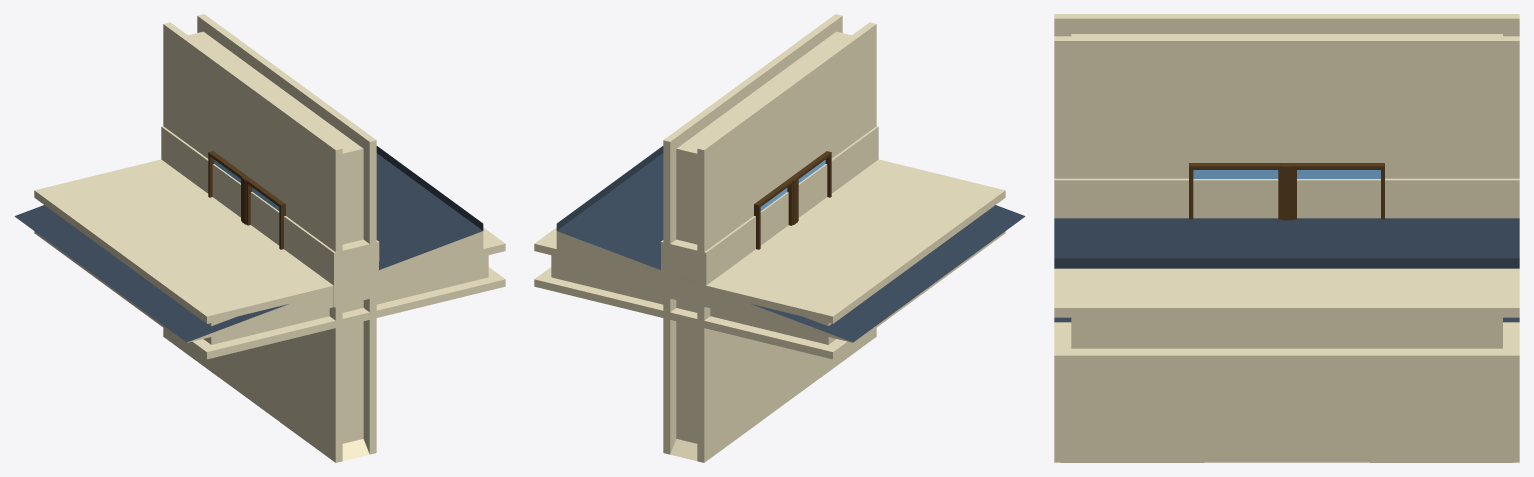
File: ModularHousePieces.fbx
The picture shows the model from 3 angles, left to right: view 1: azimuth 30°, elevation 25°; view 2: azimuth 150°, elevation 25°; view 3: azimuth 270°, elevation 25°; orthographic projection. The views are drawn at different scales.
Visible parts, largest first — view 1: Wall, Ceiling, Roof, WallWindow, RoofMiddle, WallDoor, WindowColor; view 2: Wall, Ceiling, Roof, WallWindow, RoofMiddle, Floor, WallDoor, WindowColor; view 3: Wall, WallWindow, Ceiling, Roof, WallDoor, Floor, RoofMiddle, WindowColor.
Part boxes in pixels (bbox=[...]): Wall: bbox=[163, 14, 376, 462]; Ceiling: bbox=[34, 159, 505, 359]; Roof: bbox=[14, 146, 483, 342]; WallWindow: bbox=[163, 26, 362, 460]; RoofMiddle: bbox=[161, 126, 379, 307]; WallDoor: bbox=[163, 25, 369, 460]; WindowColor: bbox=[208, 151, 285, 249]; Wall: bbox=[663, 14, 876, 462]; Ceiling: bbox=[534, 160, 1005, 359]; Roof: bbox=[556, 146, 1025, 342]; WallWindow: bbox=[677, 24, 876, 462]; RoofMiddle: bbox=[660, 126, 878, 307]; Floor: bbox=[535, 159, 979, 305]; WallDoor: bbox=[670, 24, 876, 460]; WindowColor: bbox=[754, 151, 831, 249]; Wall: bbox=[1054, 14, 1519, 462]; WallWindow: bbox=[1054, 34, 1519, 462]; Ceiling: bbox=[1054, 268, 1519, 365]; Roof: bbox=[1054, 218, 1519, 322]; WallDoor: bbox=[1054, 41, 1519, 462]; Floor: bbox=[1054, 268, 1519, 307]; RoofMiddle: bbox=[1054, 178, 1519, 218]; WindowColor: bbox=[1189, 163, 1384, 220].
Size of the model in its own units: 2.13 by 2 by 2.
